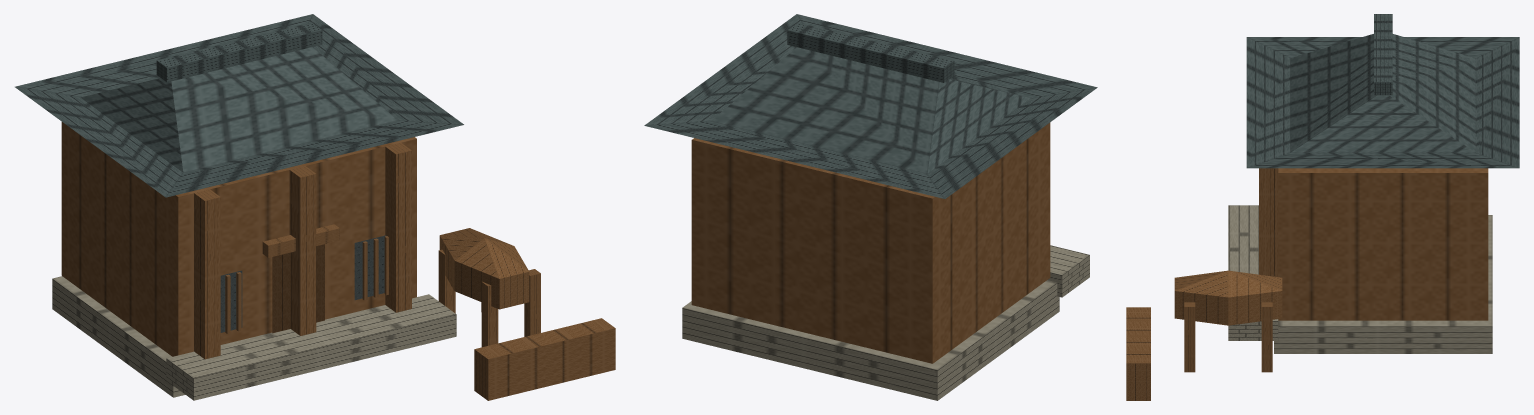
Rendered from domestic-STABLE-1-lod0.glb.
The picture shows the model from 3 angles, left to right: view 1: azimuth 30°, elevation 25°; view 2: azimuth 150°, elevation 25°; view 3: azimuth 270°, elevation 25°; orthographic projection. The views are drawn at different scales.
Size of the model in its own units: 0.7213 by 0.499 by 0.712.
Materials: 1 (1 with a texture image).
